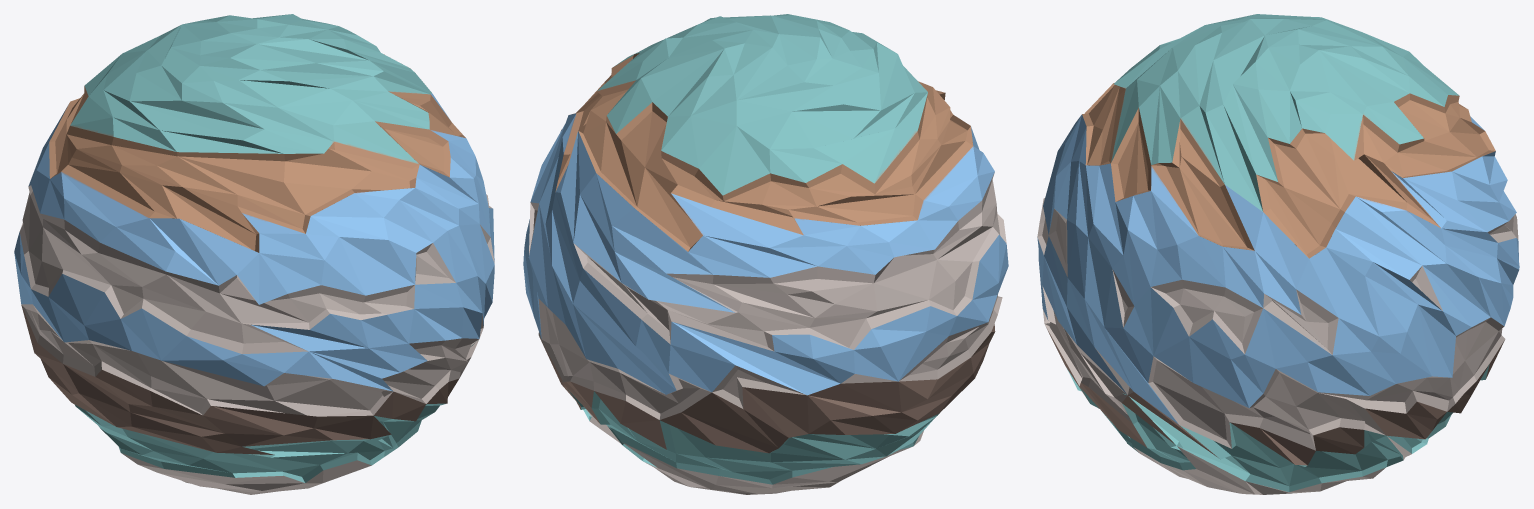
Rendered from Jupiter.obj.
3 views of the same model, side by side, from view 1: azimuth 30°, elevation 25°; view 2: azimuth 150°, elevation 25°; view 3: azimuth 270°, elevation 25° (orthographic).
Visible parts, largest first — view 1: Jupiter; view 2: Jupiter; view 3: Jupiter.
Boxes of the visible parts, x1=… form: Jupiter: x1=14, y1=14, x2=494, y2=494; Jupiter: x1=523, y1=14, x2=1008, y2=494; Jupiter: x1=1037, y1=14, x2=1519, y2=494.
Size of the model in its own units: 35.11 by 35.37 by 35.21.
